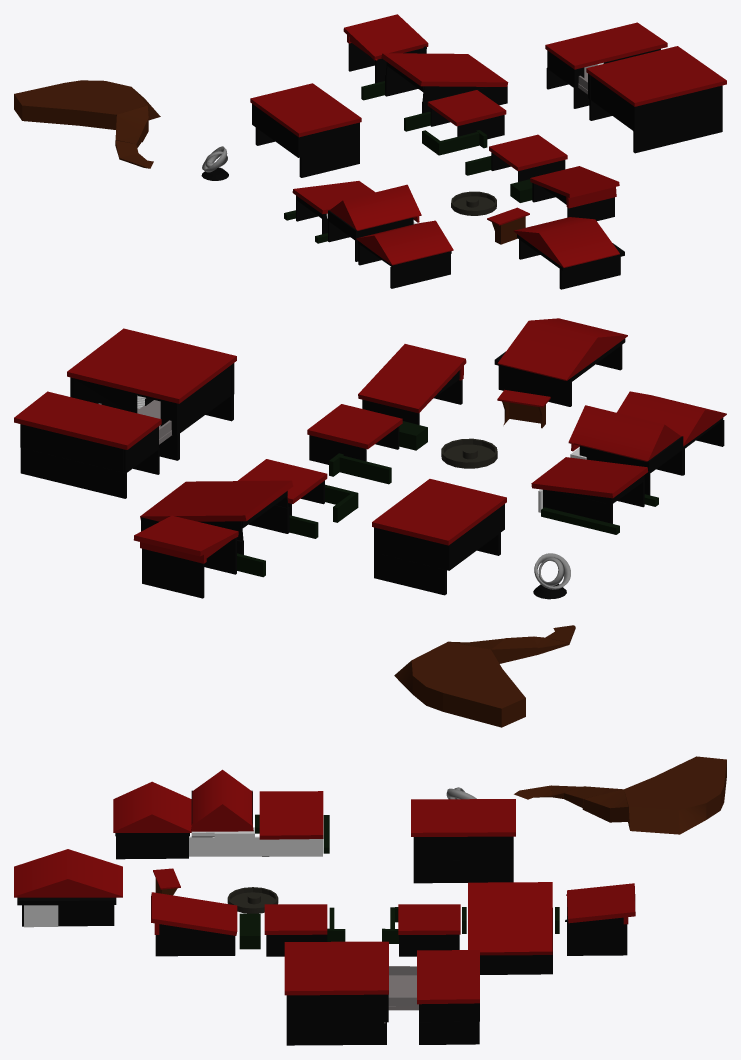
File: SM_FullScene.FBX
3 renders of one model, top to bottom at view 1: azimuth 30°, elevation 25°; view 2: azimuth 150°, elevation 25°; view 3: azimuth 270°, elevation 25°, orthographic. The views are drawn at different scales.
Parts seen in each view (by area): view 1: SM_FullScene; view 2: SM_FullScene; view 3: SM_FullScene.
Part boxes in pixels (x1,y1,x2,y2): SM_FullScene: (14, 14, 726, 289); SM_FullScene: (14, 318, 726, 727); SM_FullScene: (14, 756, 726, 1045).
Size of the model in its own units: 9795 by 10693 by 1028.
